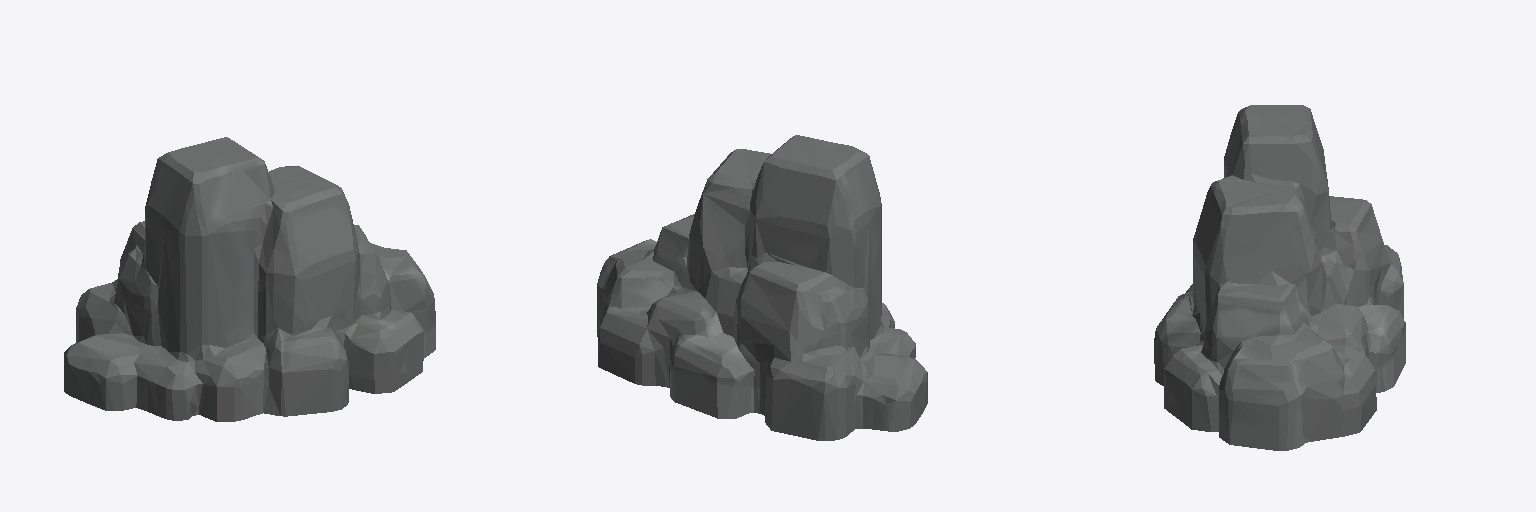
3 renders of one model, left to right at view 1: azimuth 30°, elevation 25°; view 2: azimuth 150°, elevation 25°; view 3: azimuth 270°, elevation 25°, orthographic.
Visible parts, largest first — view 1: Rock_1__Rock_1__0_Rock_1__Rock_1__0.001; view 2: Rock_1__Rock_1__0_Rock_1__Rock_1__0.001; view 3: Rock_1__Rock_1__0_Rock_1__Rock_1__0.001.
Boxes of the visible parts, x1,y1,x2,y2 form: Rock_1__Rock_1__0_Rock_1__Rock_1__0.001: [64, 137, 435, 421]; Rock_1__Rock_1__0_Rock_1__Rock_1__0.001: [597, 135, 927, 440]; Rock_1__Rock_1__0_Rock_1__Rock_1__0.001: [1154, 105, 1405, 450].
Size of the model in its own units: 2.51 by 1.62 by 1.63.
1 materials, 1 textured.